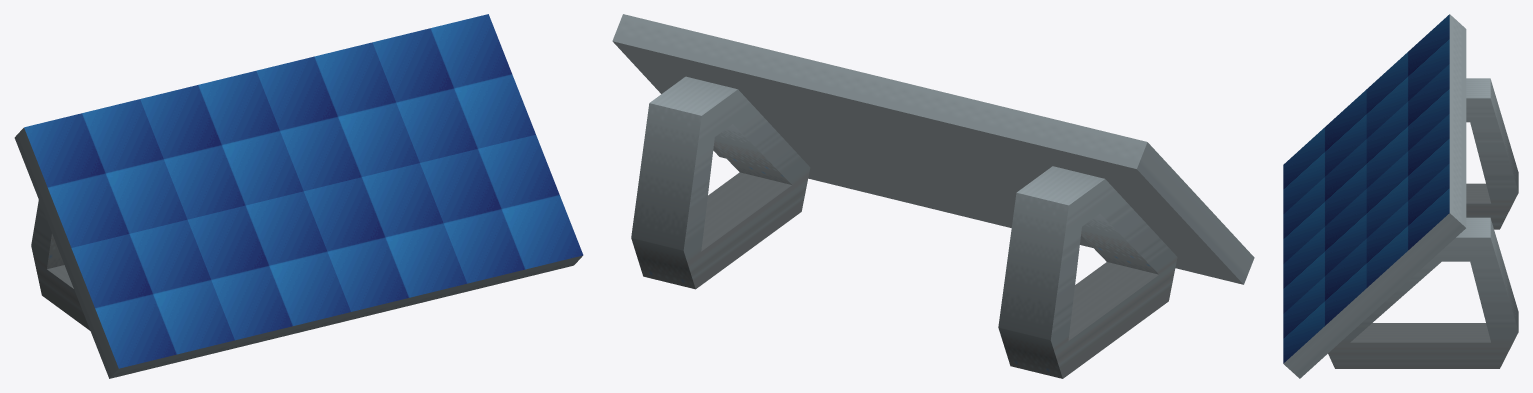
The model's file is solarpanel.glb.
The picture shows the model from 3 angles, left to right: view 1: azimuth 30°, elevation 25°; view 2: azimuth 150°, elevation 25°; view 3: azimuth 270°, elevation 25°; orthographic projection. The views are drawn at different scales.
Visible parts, largest first — view 1: solarpanel; view 2: solarpanel; view 3: solarpanel.
Part boxes in pixels (x1=…): solarpanel: x1=14, y1=14, x2=583, y2=378; solarpanel: x1=612, y1=14, x2=1254, y2=378; solarpanel: x1=1283, y1=14, x2=1518, y2=378.
Size of the model in its own units: 0.9 by 0.3709 by 0.45.
Materials: 1 (1 with a texture image).
